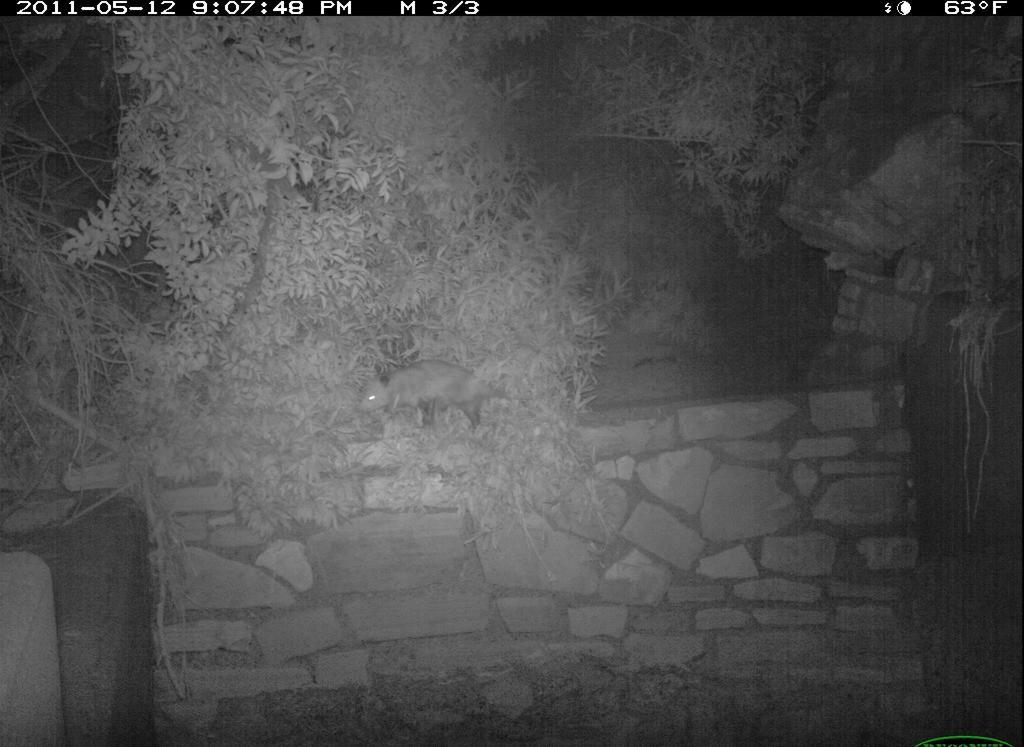opossum: (345, 355, 539, 438)
